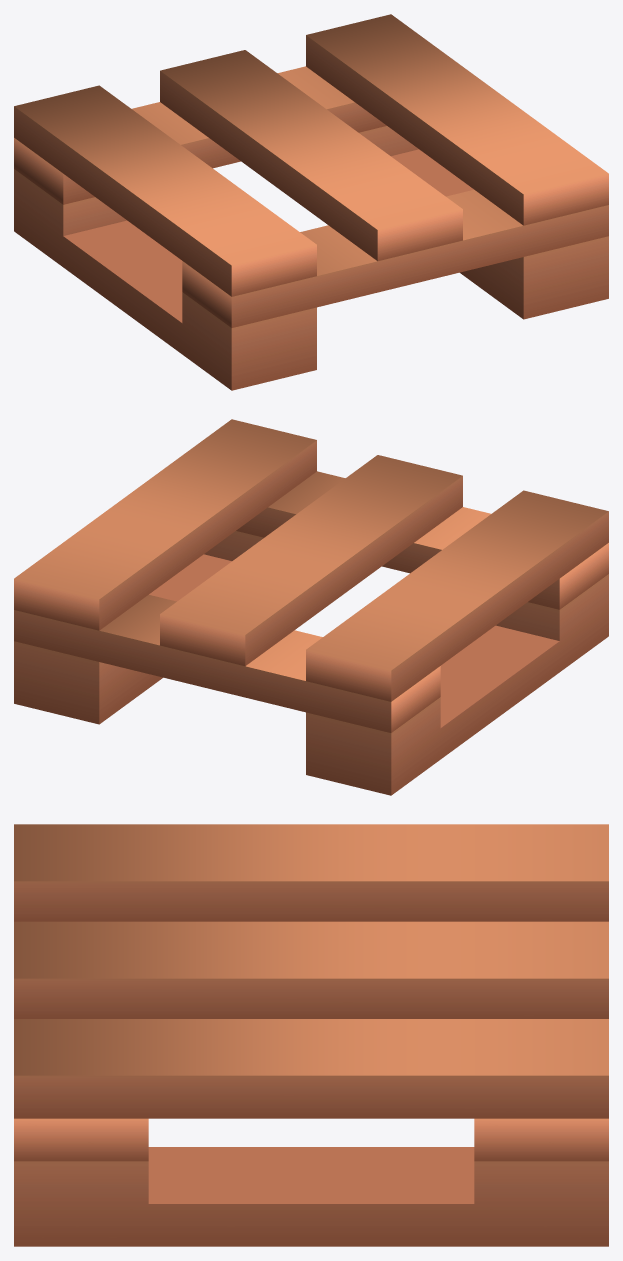
Rendered from kenney-mini-skate-pallet.glb.
The picture shows the model from 3 angles, top to bottom: view 1: azimuth 30°, elevation 25°; view 2: azimuth 150°, elevation 25°; view 3: azimuth 270°, elevation 25°; orthographic projection. The views are drawn at different scales.
Visible parts, largest first — view 1: pallet; view 2: pallet; view 3: pallet.
Part boxes in pixels (left/top/right/bottom): pallet: left=14, top=14, right=608, bottom=390; pallet: left=14, top=419, right=608, bottom=795; pallet: left=14, top=824, right=608, bottom=1246.
Size of the model in its own units: 0.4229 by 0.134 by 0.4229.
1 material, 1 textured.
